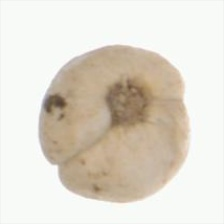L4: (39, 45, 191, 203)
